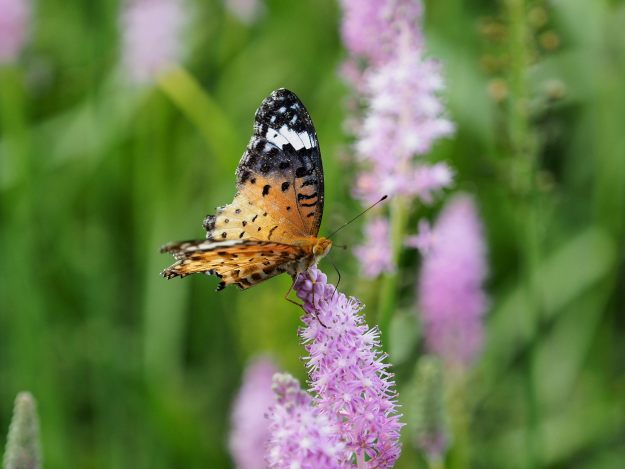Argyreus hyperbius: (150, 80, 392, 330)
butterfly: (152, 82, 394, 332)
